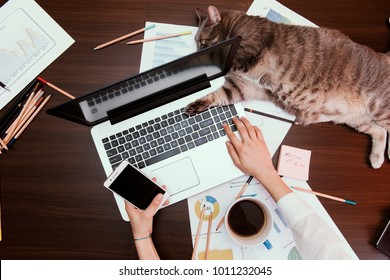cat: (191, 7, 389, 159)
laptop: (40, 41, 276, 215)
